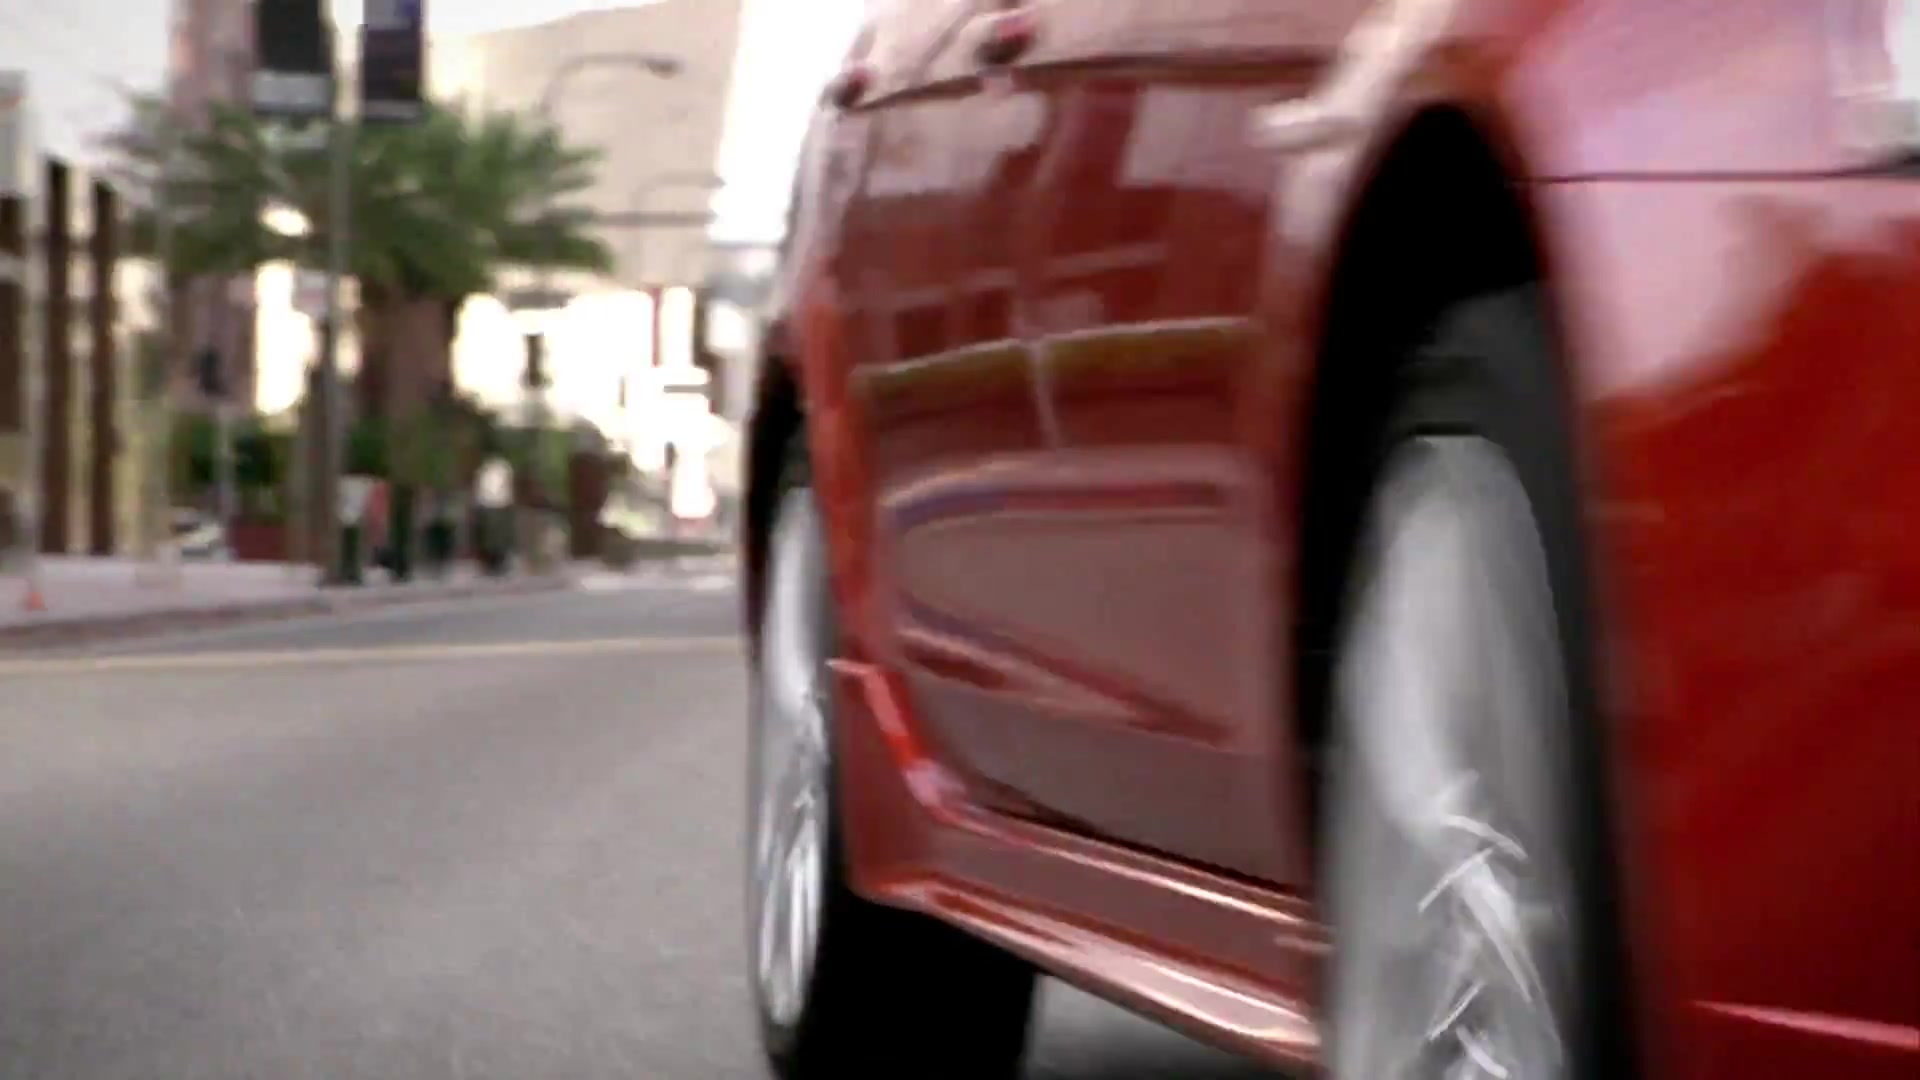car: (729, 1, 1920, 1080)
